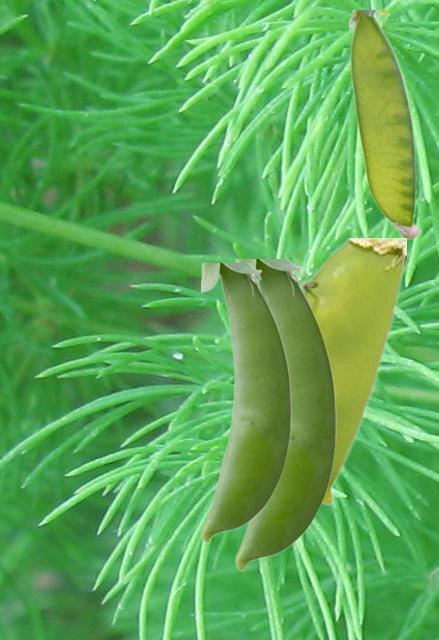pea: (235, 259, 335, 570), (300, 238, 405, 504), (201, 263, 290, 542), (349, 10, 419, 238)
